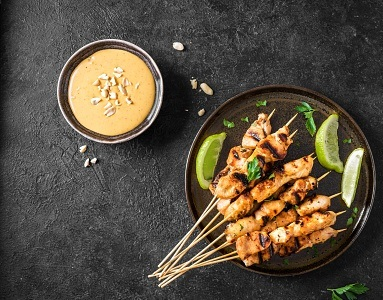sate: (145, 134, 347, 291)
